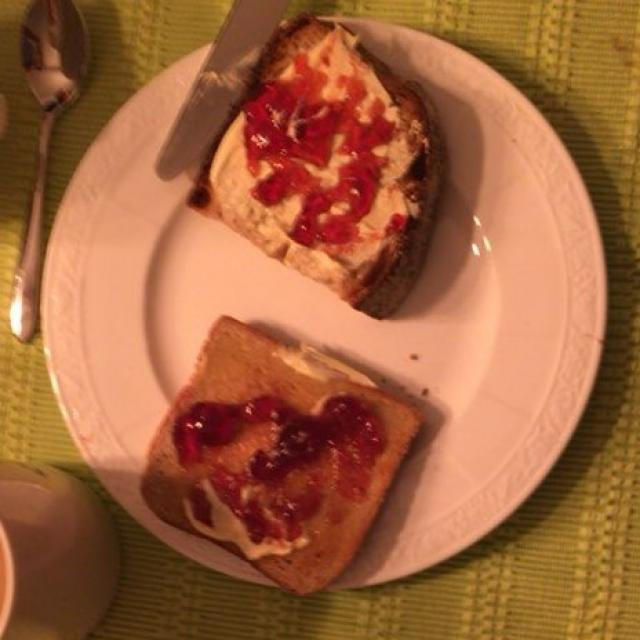bread: (138, 13, 445, 613)
butter: (213, 26, 414, 285)
jam: (176, 66, 394, 552)
